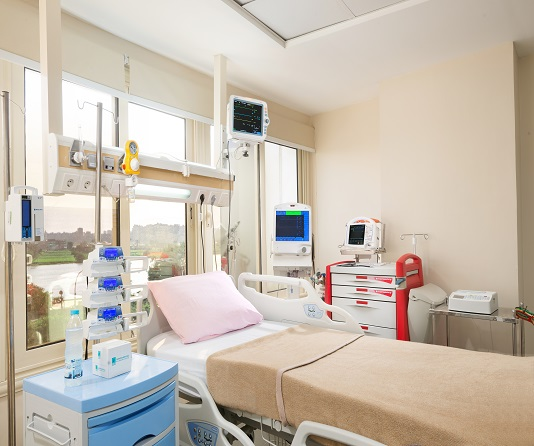bedrail: (235, 270, 367, 336), (180, 368, 260, 446), (283, 414, 391, 446)
bedside_monitor: (1, 187, 44, 251), (228, 95, 270, 142), (274, 204, 312, 253), (342, 222, 382, 256)
bedside_table: (19, 346, 180, 446)
hospital_bed: (129, 269, 534, 446)
iv_pole: (1, 88, 27, 424), (78, 97, 121, 248), (398, 229, 433, 257)
medical_drawer: (323, 262, 423, 340)
waste_bin: (408, 282, 448, 345)
